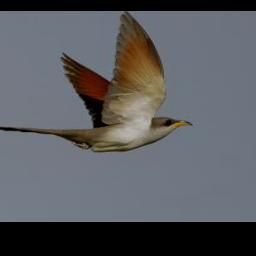Cuckoo: (0, 11, 192, 150)
